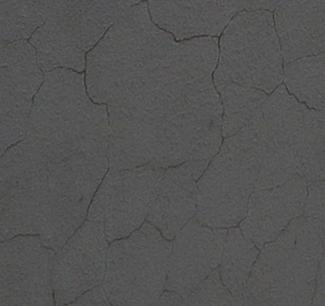fissura: (4, 2, 325, 306)
